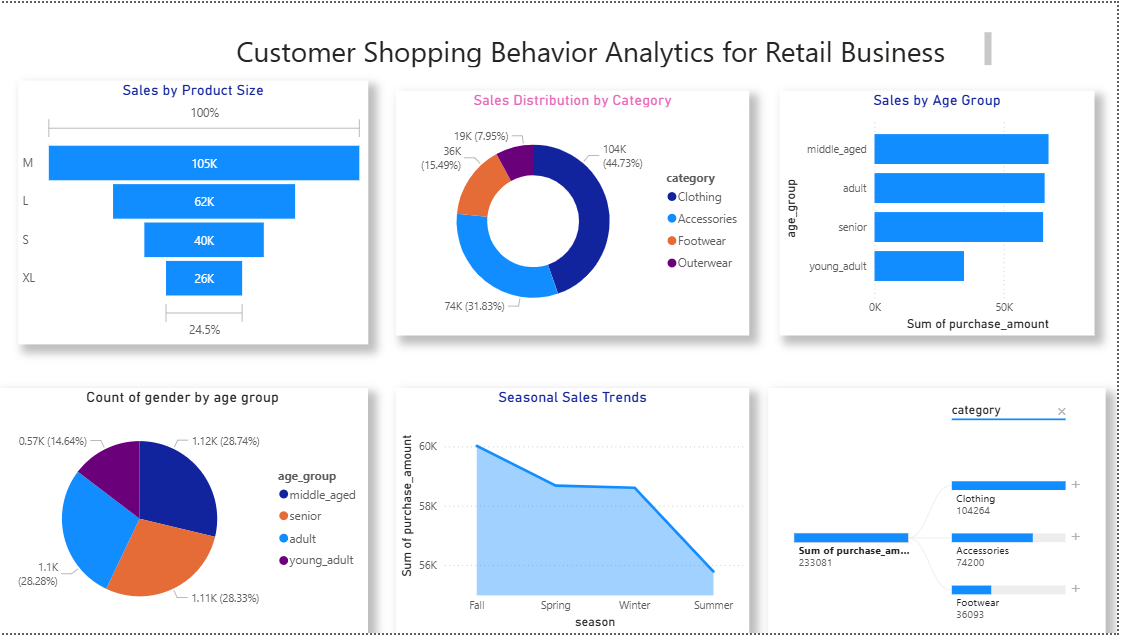

This screenshot's page, from the dashboard's own definition file:
{"tool":"powerbi","page":{"name":"Page 1","canvas":[1280,720],"ordinal":0},"visuals":[{"type":"pieChart","title":"Count of gender by age group","fields":{"Category":["customer_transactions_final.age_group"],"Y":["CountNonNull(customer_transactions_final.gender)"]},"box":[0,440,424.3,280],"z":0},{"type":"donutChart","title":"Sales Distribution by Category","fields":{"Category":["customer_transactions_final.category"],"Y":["Sum(customer_transactions_final.purchase_amount)"]},"box":[455.7,100,404.3,280],"z":1000},{"type":"clusteredBarChart","title":"Sales by Age Group","fields":{"Category":["customer_transactions_final.age_group"],"Y":["Sum(customer_transactions_final.purchase_amount)"]},"box":[894.3,100,360,280],"z":2000},{"type":"areaChart","title":"Seasonal Sales Trends","fields":{"Category":["customer_transactions_final.season"],"Y":["Sum(customer_transactions_final.purchase_amount)"]},"box":[455.7,440,404.3,280],"z":3000},{"type":"funnel","title":"Sales by Product Size","fields":{"Category":["customer_transactions_final.size"],"Y":["Sum(customer_transactions_final.purchase_amount)"]},"box":[24.3,88.6,400,301.4],"z":4000},{"type":"decompositionTreeVisual","fields":{"Analyze":["Sum(customer_transactions_final.purchase_amount)"],"ExplainBy":["customer_transactions_final.category","customer_transactions_final.gender","customer_transactions_final.payment_method","customer_transactions_final.age_group","customer_transactions_final.season"]},"box":[881.4,440,385.7,280],"z":4001},{"type":"textbox","box":[268.6,28.6,872.9,50],"z":4002}]}

Visuals, with their boxes in screenshot pixels (x1, y1, x2, y2), scaled from the page's 1280x720 canvas onto the 1122x641 screenshot:
"Count of gender by age group" pieChart: locate(0, 392, 372, 640)
"Sales Distribution by Category" donutChart: locate(399, 89, 754, 338)
"Sales by Age Group" clusteredBarChart: locate(784, 89, 1099, 338)
"Seasonal Sales Trends" areaChart: locate(399, 392, 754, 640)
"Sales by Product Size" funnel: locate(21, 79, 372, 347)
decompositionTreeVisual - Sum(customer_transactions_final.purchase_amount) x customer_transactions_final.category: locate(773, 392, 1111, 640)
textbox: locate(235, 25, 1001, 70)
